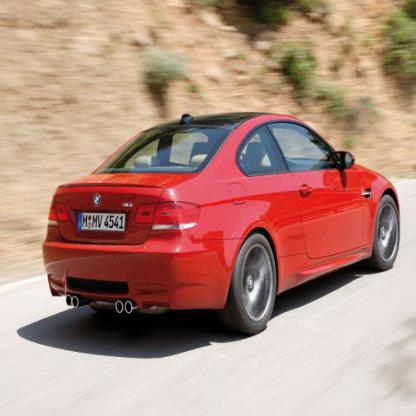Vehicle: (40, 111, 400, 337)
